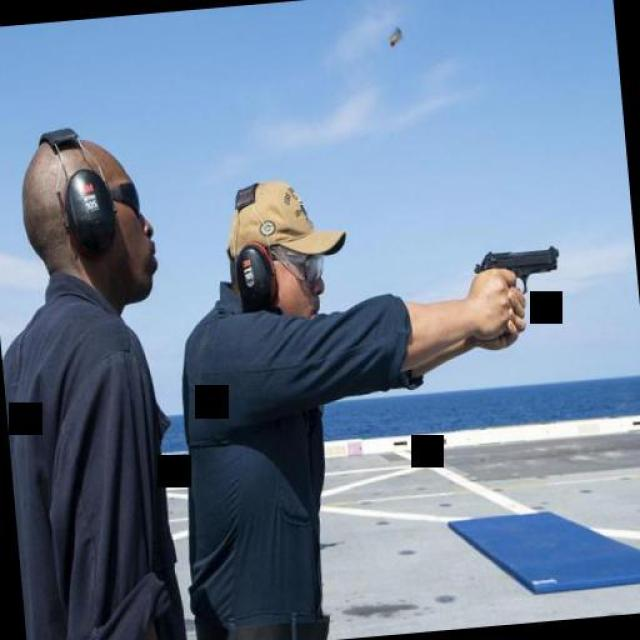gun: (468, 235, 566, 313)
